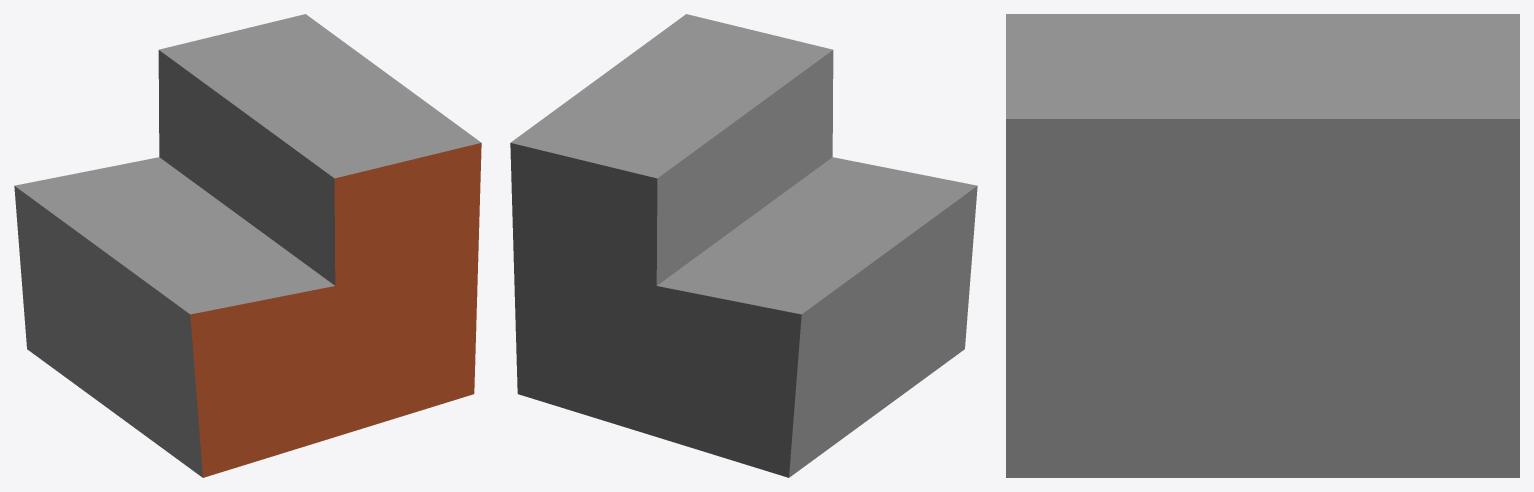
Rendered from construction_6501_assumed_A_Casa_h6m.obj.
The picture shows the model from 3 angles, left to right: view 1: azimuth 30°, elevation 25°; view 2: azimuth 150°, elevation 25°; view 3: azimuth 270°, elevation 25°; orthographic projection. The views are drawn at different scales.
Visible parts, largest first — view 1: construction_6501_assumed_A_Casa; view 2: construction_6501_assumed_A_Casa; view 3: construction_6501_assumed_A_Casa.
Boxes of the visible parts, <box> form: construction_6501_assumed_A_Casa: <box>14,14,481,477</box>; construction_6501_assumed_A_Casa: <box>510,14,977,477</box>; construction_6501_assumed_A_Casa: <box>1006,14,1519,477</box>.
Bounding box in the file's own units: 5.74 × 5.03 × 6.
